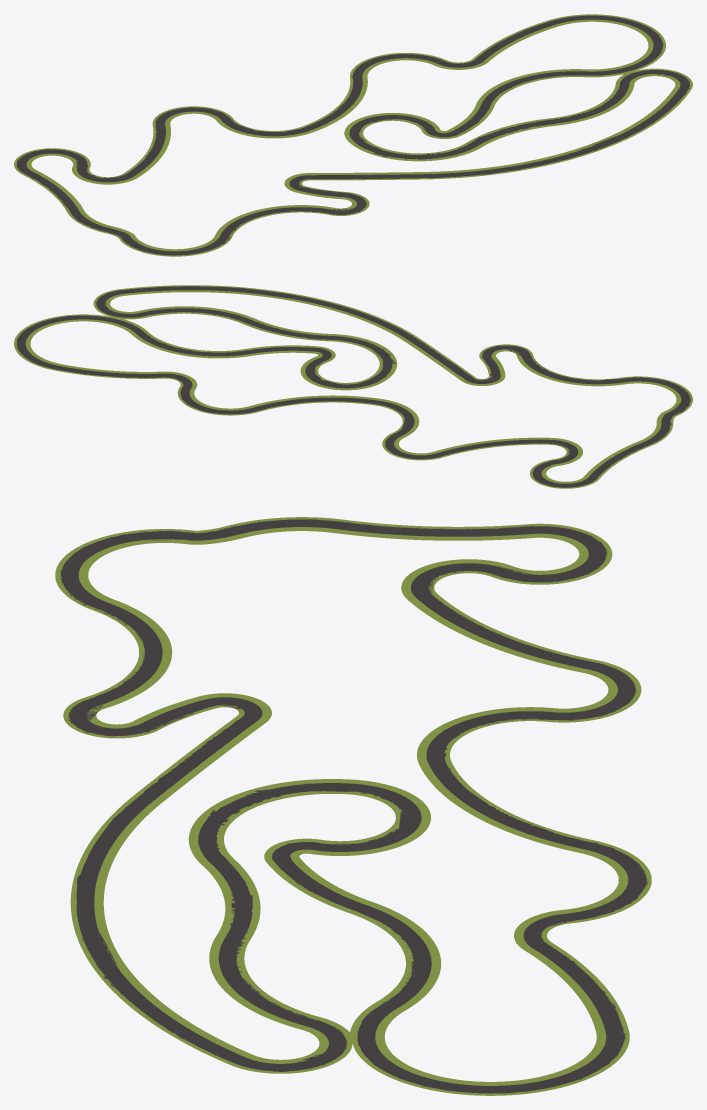
The model's file is circuit_curve_no_line.dae.
The picture shows the model from 3 angles, top to bottom: view 1: azimuth 30°, elevation 25°; view 2: azimuth 150°, elevation 25°; view 3: azimuth 270°, elevation 25°; orthographic projection. The views are drawn at different scales.
Visible parts, largest first — view 1: SketchUp, SketchUp_003, SketchUp_004; view 2: SketchUp, SketchUp_003, SketchUp_004; view 3: SketchUp, SketchUp_003, SketchUp_004.
Boxes of the visible parts, left/top/right/bottom form: SketchUp: left=16, top=15, right=689, bottom=255; SketchUp_003: left=26, top=19, right=680, bottom=251; SketchUp_004: left=14, top=14, right=692, bottom=256; SketchUp: left=17, top=286, right=690, bottom=487; SketchUp_003: left=25, top=290, right=681, bottom=483; SketchUp_004: left=14, top=285, right=692, bottom=488; SketchUp: left=60, top=519, right=647, bottom=1093; SketchUp_003: left=78, top=527, right=628, bottom=1085; SketchUp_004: left=55, top=517, right=651, bottom=1095.
Bounding box in the file's own units: 185 × 80.78 × 0.
3 materials, 2 textured.
